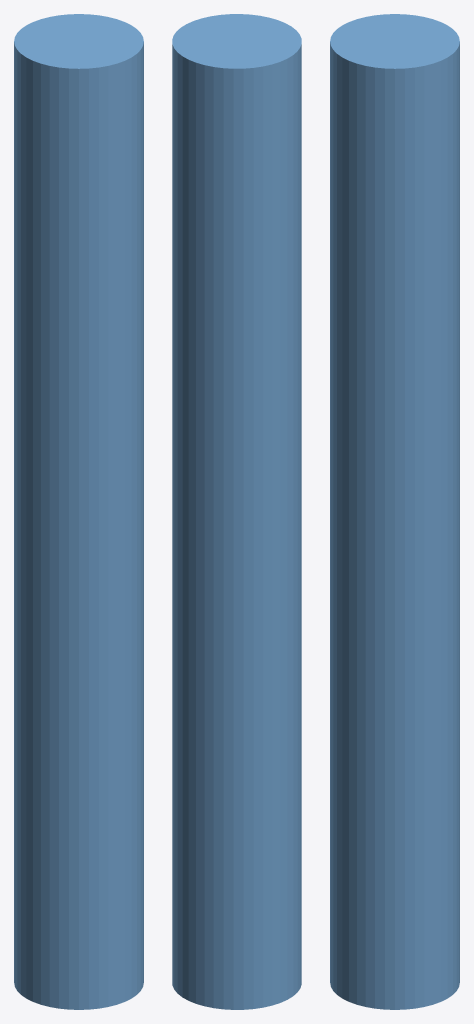
Rendered from med_insulin_pen_0025.glb.
3 views of the same model, side by side, from view 1: azimuth 90°, elevation 25°; view 2: azimuth 150°, elevation 25°; view 3: azimuth 270°, elevation 25° (orthographic).
Parts seen in each view (by area): view 1: z-up-to-y-up; view 2: z-up-to-y-up; view 3: z-up-to-y-up.
Boxes of the visible parts, x1,y1,x2,y2 form: z-up-to-y-up: [14, 14, 143, 1009]; z-up-to-y-up: [172, 14, 301, 1009]; z-up-to-y-up: [330, 14, 459, 1009].
Size of the model in its own units: 0.0159 by 0.1272 by 0.0159.
